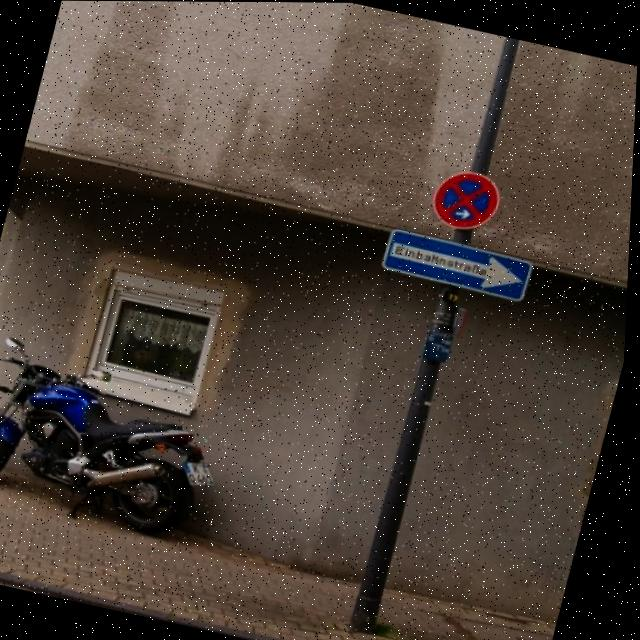motorcycle: (0, 327, 248, 556)
